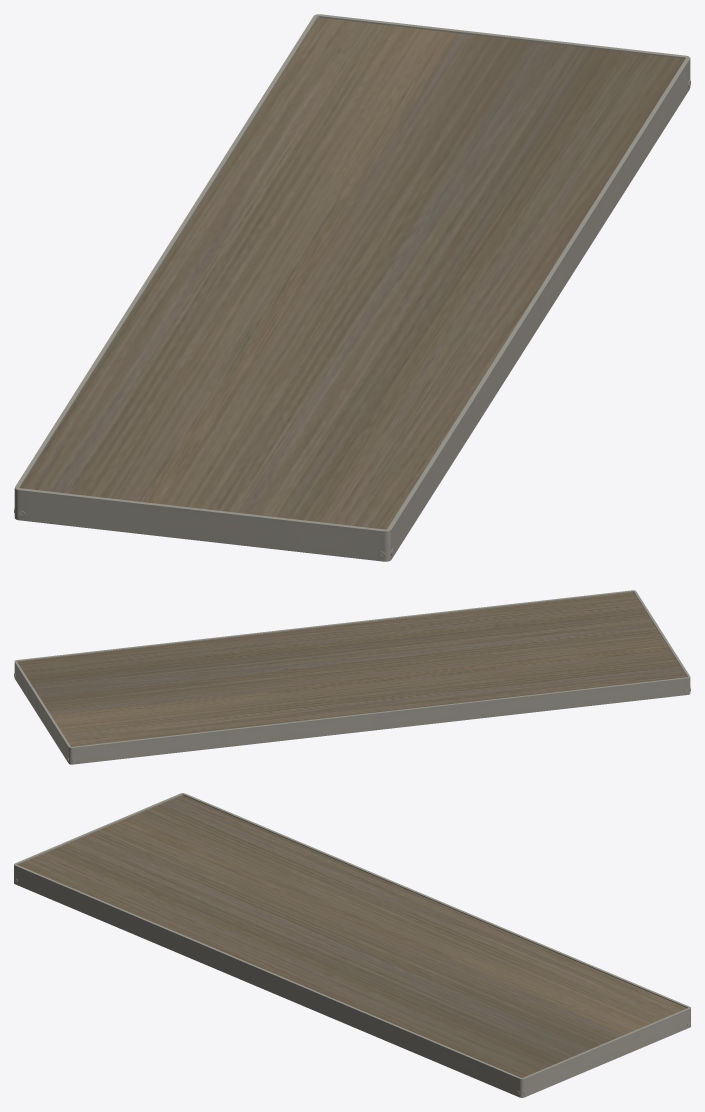
Rendered from bot_0101_w1200_d400.glb.
The picture shows the model from 3 angles, top to bottom: view 1: azimuth 30°, elevation 25°; view 2: azimuth 150°, elevation 25°; view 3: azimuth 270°, elevation 25°; orthographic projection. The views are drawn at different scales.
Parts seen in each view (by area): view 1: bottom_shelf_0101_w1200_d400, bottom_frame_0201_w1200_d400; view 2: bottom_shelf_0101_w1200_d400, bottom_frame_0201_w1200_d400; view 3: bottom_shelf_0101_w1200_d400, bottom_frame_0201_w1200_d400.
Part boxes in pixels (box(x1,y1,x2,y2)): bottom_shelf_0101_w1200_d400: box(20, 18, 684, 529); bottom_frame_0201_w1200_d400: box(14, 14, 690, 561); bottom_shelf_0101_w1200_d400: box(18, 592, 687, 746); bottom_frame_0201_w1200_d400: box(14, 590, 690, 764); bottom_shelf_0101_w1200_d400: box(18, 795, 686, 1077); bottom_frame_0201_w1200_d400: box(14, 793, 690, 1097).
Bounding box in the file's own units: 1.12 × 0.0343 × 1.12.
Materials: 2 (2 with a texture image).
